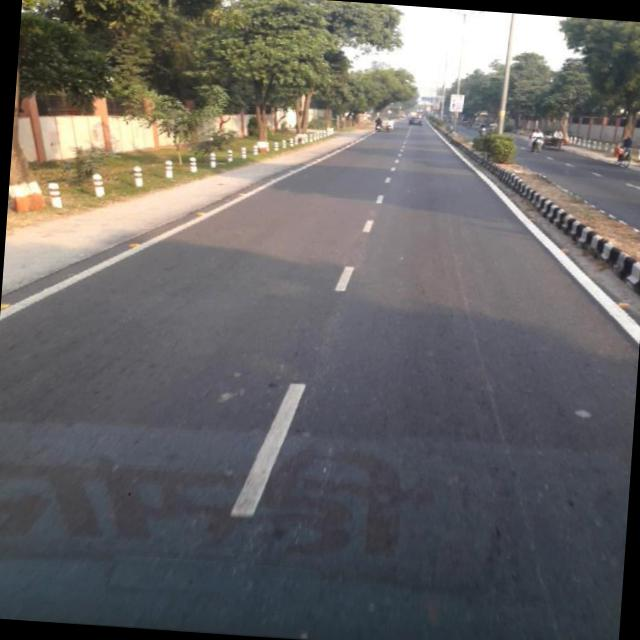pothole: (424, 240, 582, 622)
